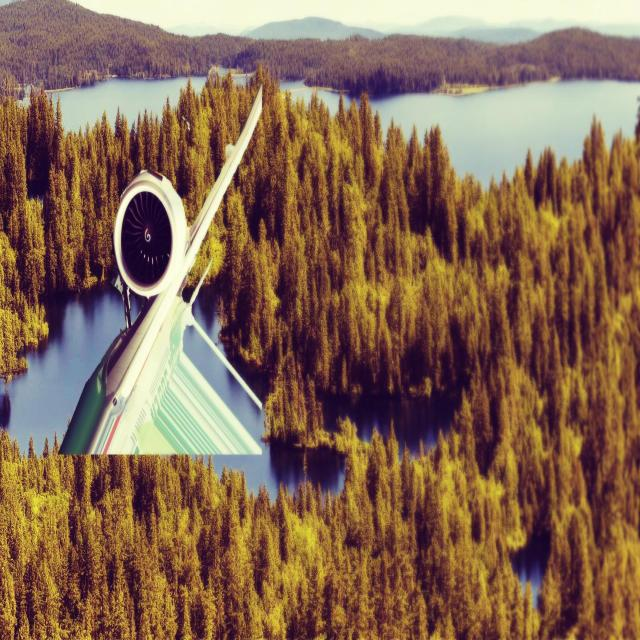airplane: (58, 80, 264, 456)
